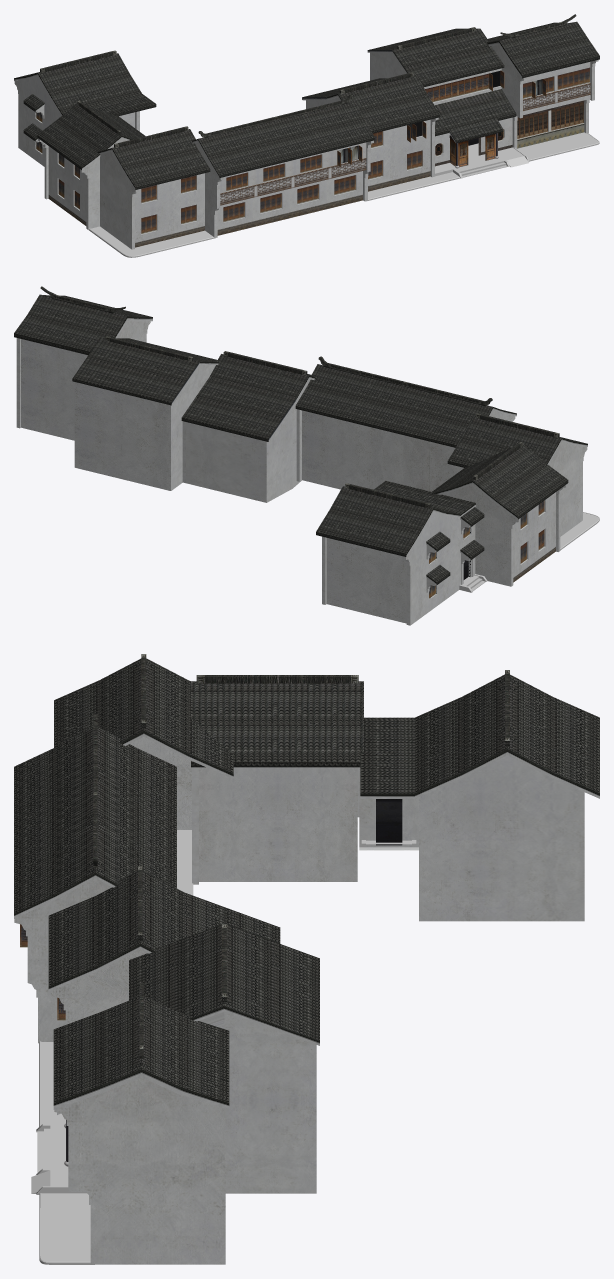
The model's file is Building_Guoyuan.FBX.
The picture shows the model from 3 angles, top to bottom: view 1: azimuth 30°, elevation 25°; view 2: azimuth 150°, elevation 25°; view 3: azimuth 270°, elevation 25°; orthographic projection. The views are drawn at different scales.
Visible parts, largest first — view 1: Building_Guoyuan, Shape001, Line001; view 2: Building_Guoyuan; view 3: Building_Guoyuan, Shape001.
Boxes of the visible parts, x1,y1,x2,y2 form: Building_Guoyuan: (14, 14, 599, 249); Shape001: (90, 132, 598, 255); Line001: (89, 133, 599, 257); Building_Guoyuan: (14, 286, 587, 625); Building_Guoyuan: (14, 654, 599, 1264); Shape001: (41, 830, 193, 1260).
Bounding box in the file's own units: 4978 × 1120 × 2710.
